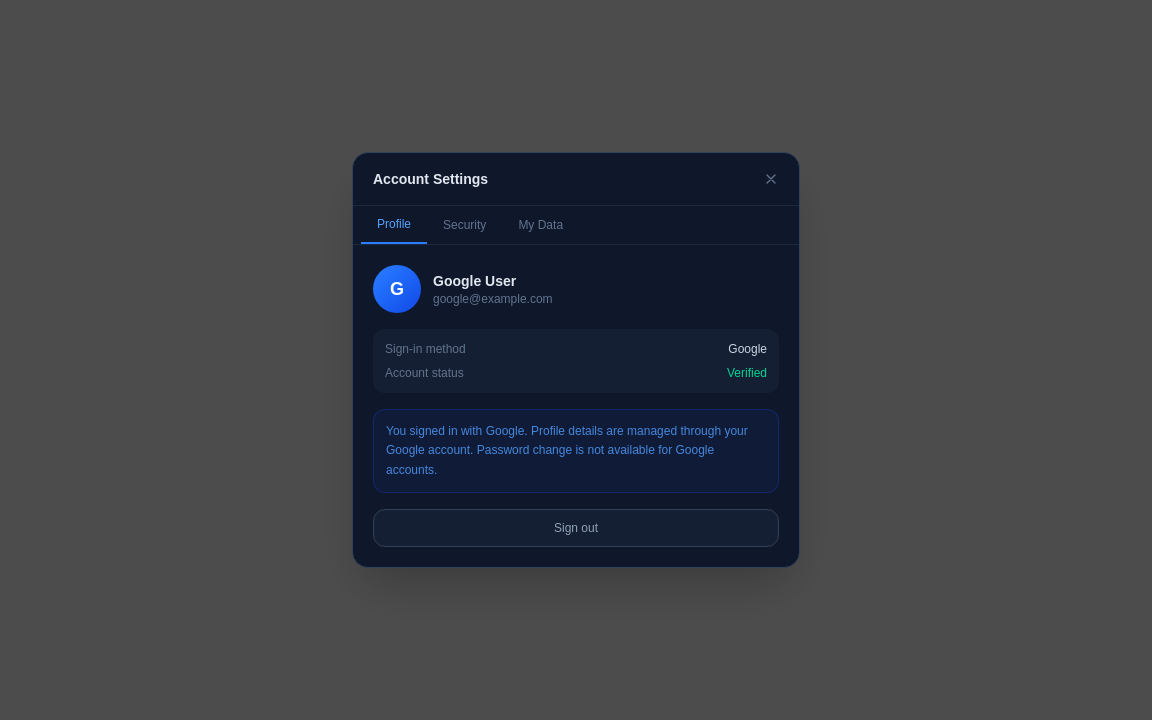
Test: ProfileModal — Security tab (Google provider) › shows Google-account notice instead of password form
The image size is (1152, 720).
Click the button "Security": coordinates (465, 225) top-left (427, 206), bottom-right (502, 244)
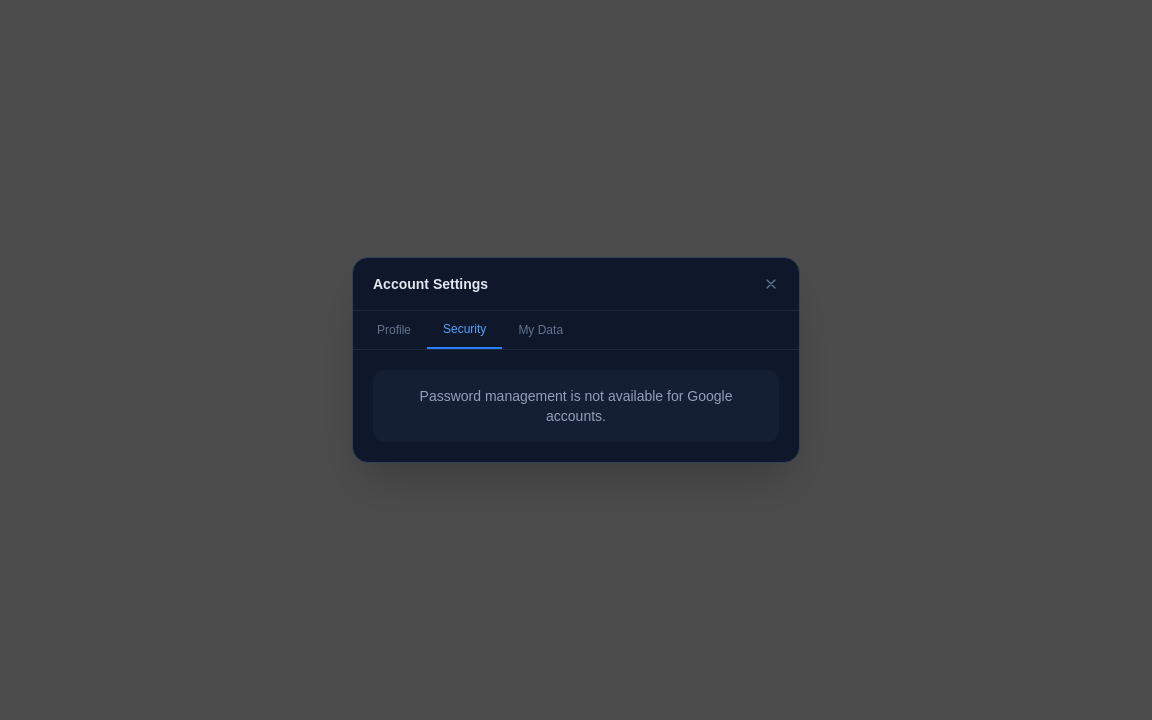
Expected: the text "Password management is not available for Google accounts." is shown, top-left (420, 388), bottom-right (732, 424)
